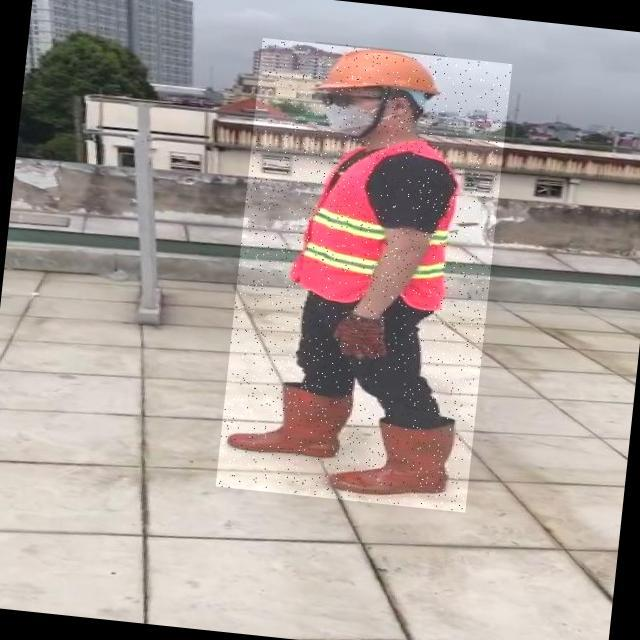Gloves: (331, 312, 392, 364)
Helmet: (310, 41, 447, 104)
Human: (215, 38, 512, 513)
Safety Boot: (327, 413, 460, 502), (228, 377, 353, 460)
Safety Vest: (293, 131, 460, 312)
